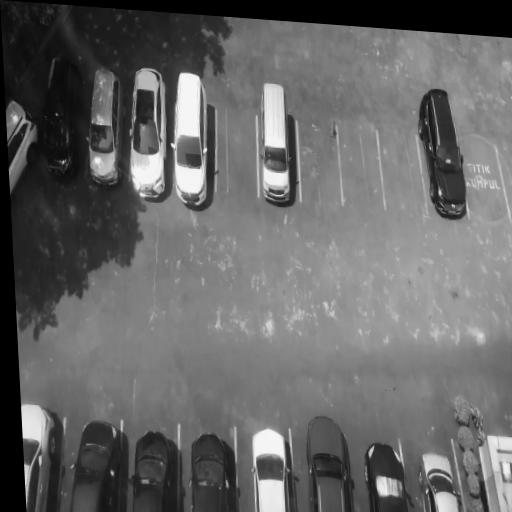Car: (167, 63, 215, 212), (124, 53, 171, 204), (416, 88, 468, 220), (37, 44, 84, 181), (254, 77, 301, 211), (81, 56, 126, 195), (21, 398, 68, 512), (70, 418, 126, 512), (306, 410, 356, 512), (248, 423, 299, 512), (189, 425, 240, 512), (130, 423, 179, 512), (6, 86, 43, 201), (364, 440, 411, 512), (416, 443, 464, 512)
Space Available: (215, 91, 261, 207), (462, 119, 510, 230), (338, 111, 384, 220), (296, 106, 342, 211), (379, 106, 422, 210)
